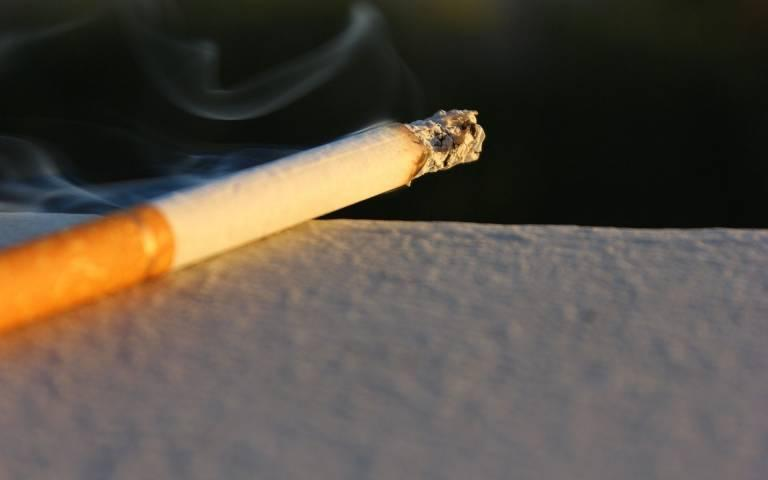smoke: (0, 107, 486, 336)
